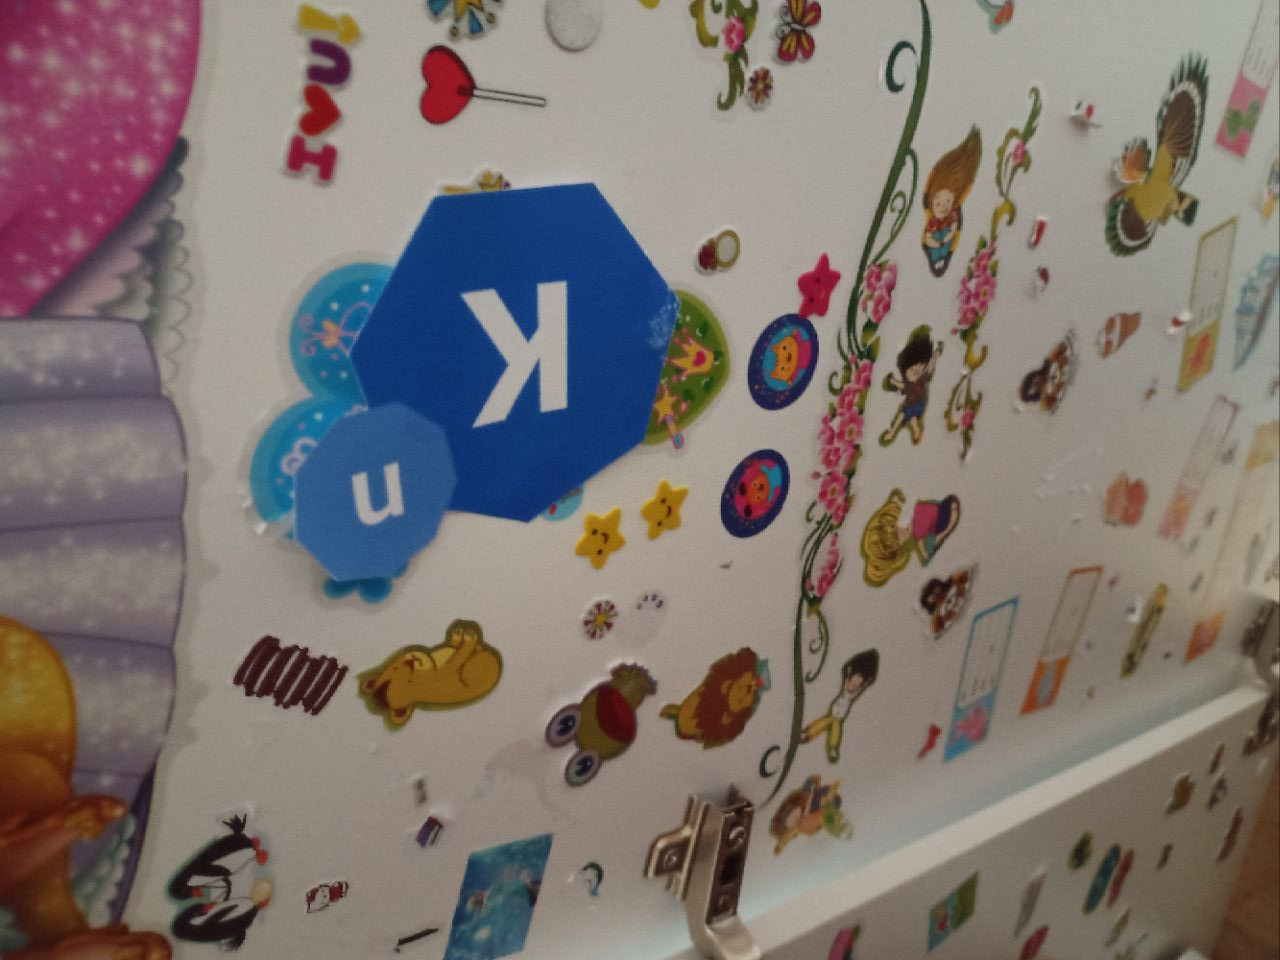knative: (296, 181, 675, 580)
